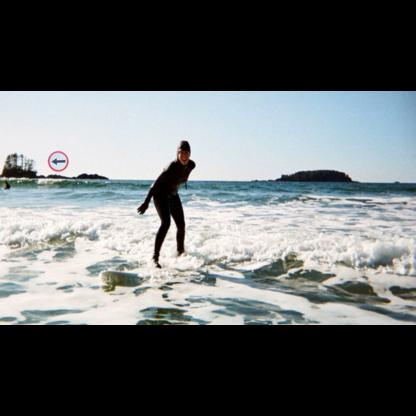R-24a: (48, 151, 68, 171)
